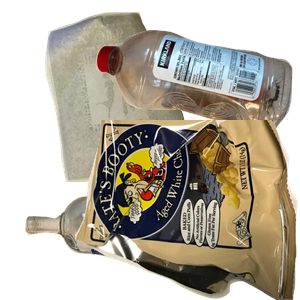glass: (22, 192, 234, 300)
paper: (43, 10, 221, 185)
plastic: (93, 27, 300, 154)
trash: (75, 120, 300, 300)
